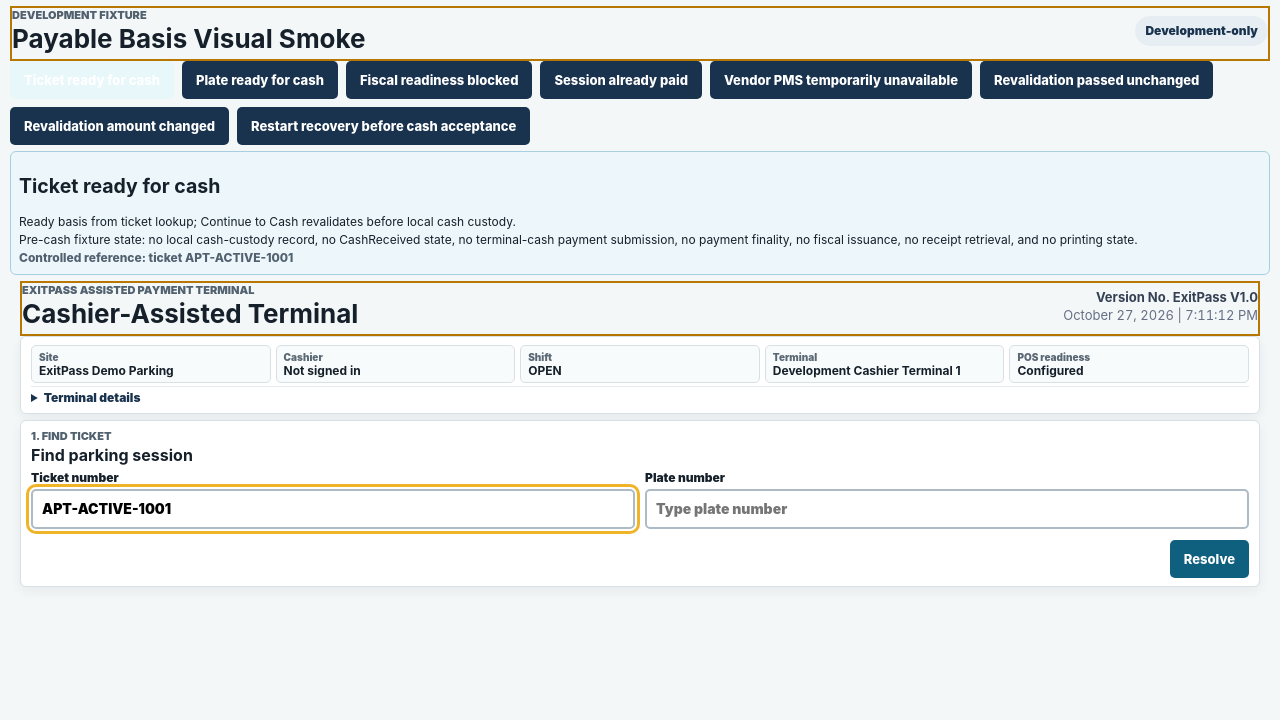
Test case: PayableBasisVisualSmokeShell › exposes direct payment while preserving unchecked attestation before cash
The image size is (1280, 720).
Click the button "Revalidation passed unchanged": click(1097, 80) x1=980 y1=61 x2=1213 y2=99
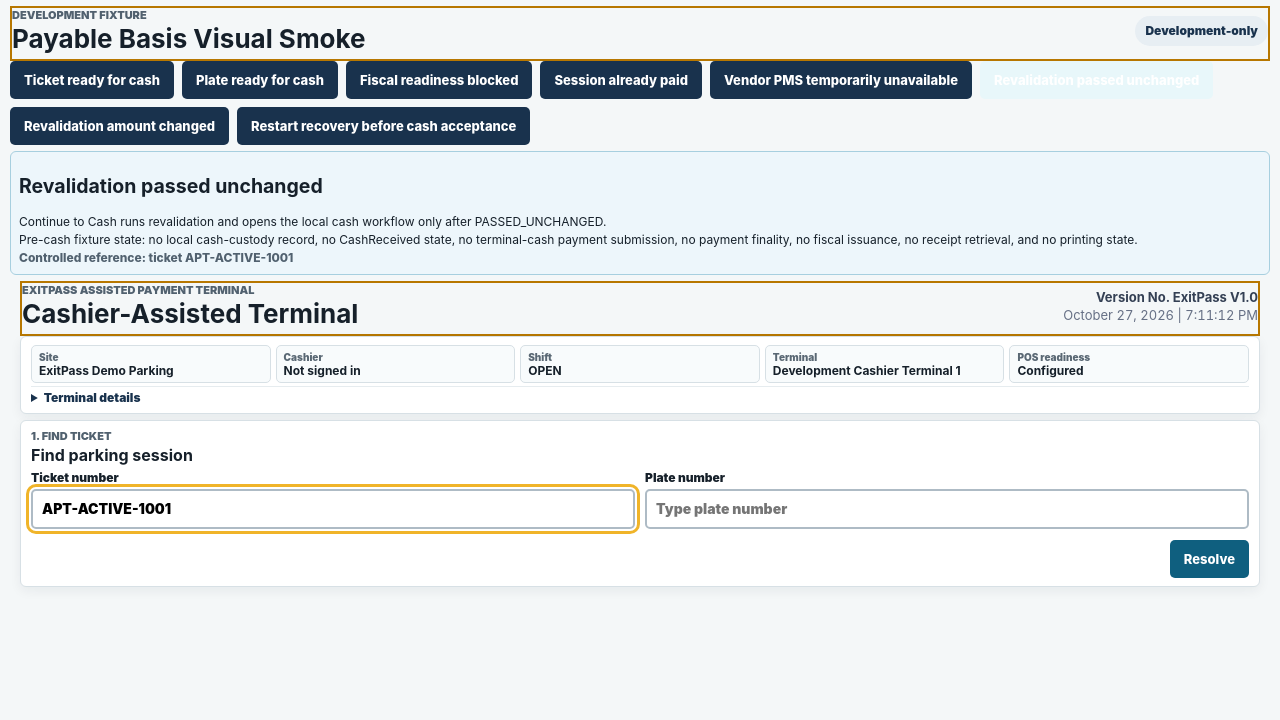
Click the button "Resolve": click(1209, 559) x1=1170 y1=540 x2=1249 y2=578
(page scrolled)
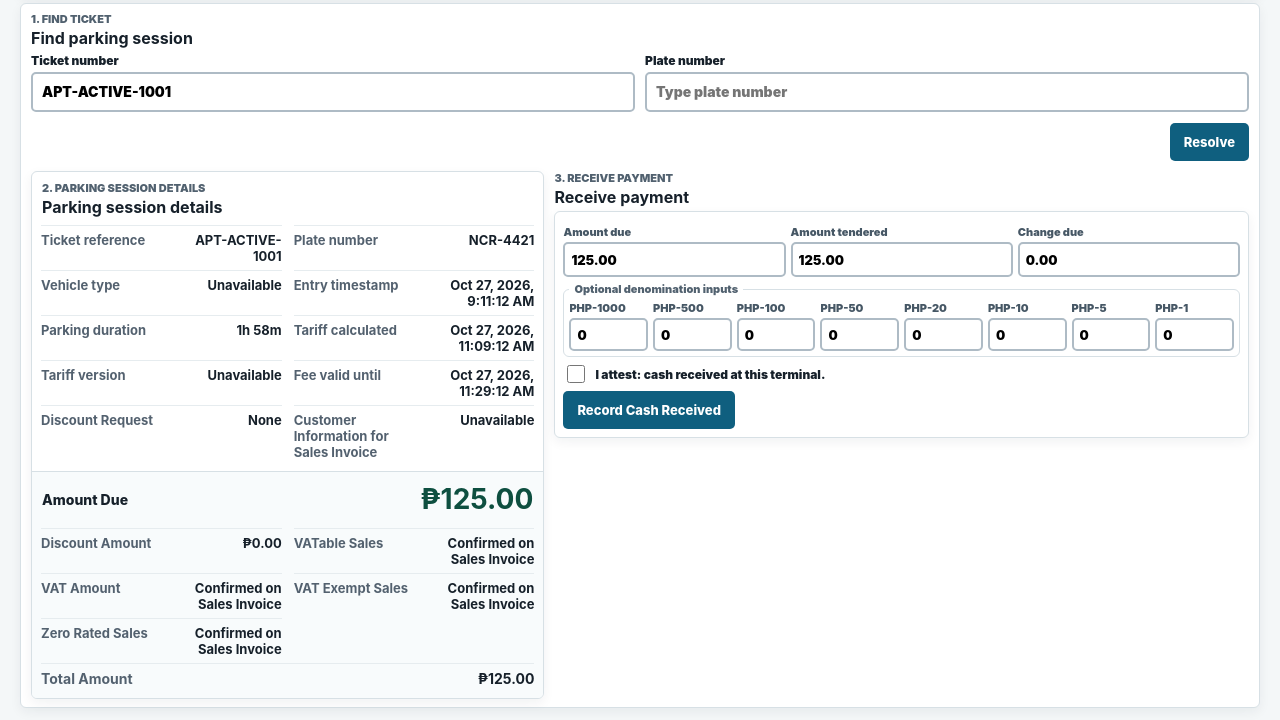
Result: the heading "Parking session details" is shown at x1=42 y1=197 x2=222 y2=217
Result: the element named "Cash custody capture" is shown at x1=554 y1=211 x2=1249 y2=438
Result: the checkbox labelled "I attest: cash received at this terminal." is not checked at x1=567 y1=365 x2=585 y2=383
